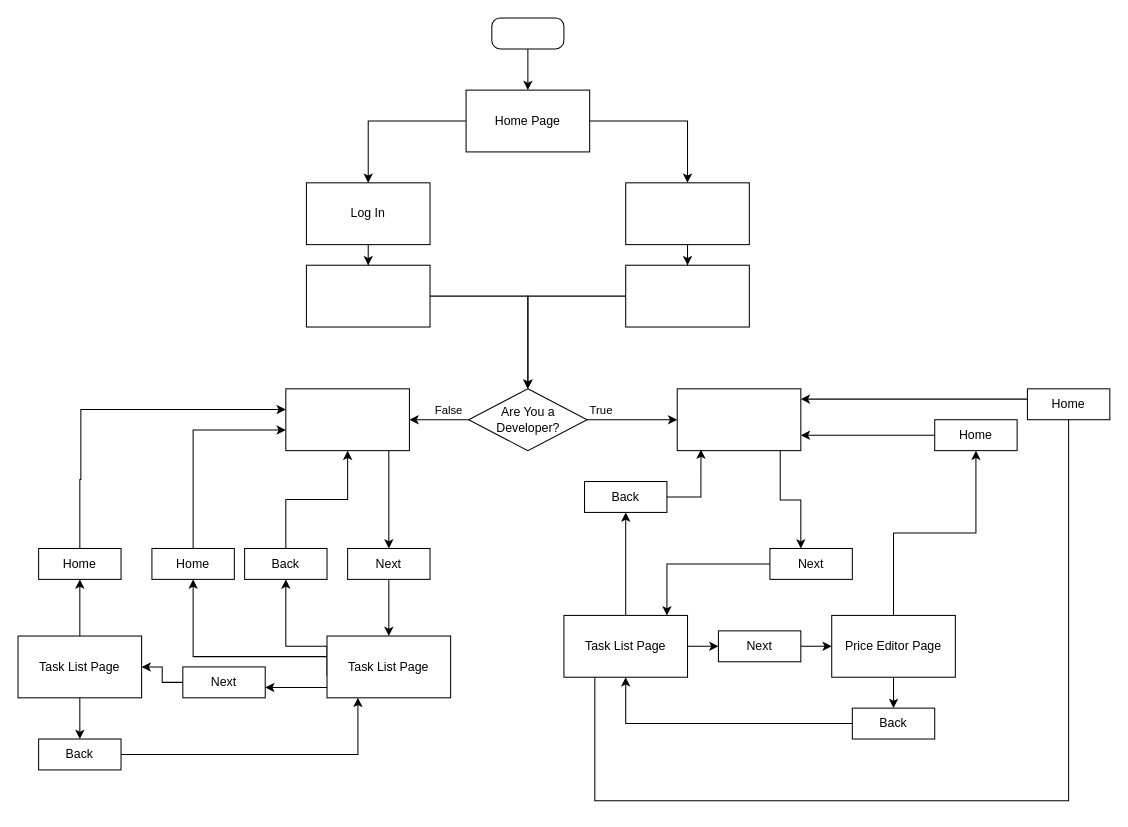
Image size: 1128x827. Some labels were removed from this diagram. The shapes that lost their labels are listed below. From the top down, each one's centre as x and y in pixels, then its label:
point (527, 33): Begin
point (687, 213): Sign In
point (367, 295): Log In Form
point (687, 295): Sign In Form
point (347, 419): User Account Page
point (738, 419): Developer Account Page
